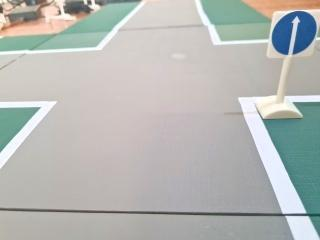straight: (268, 8, 320, 60)
